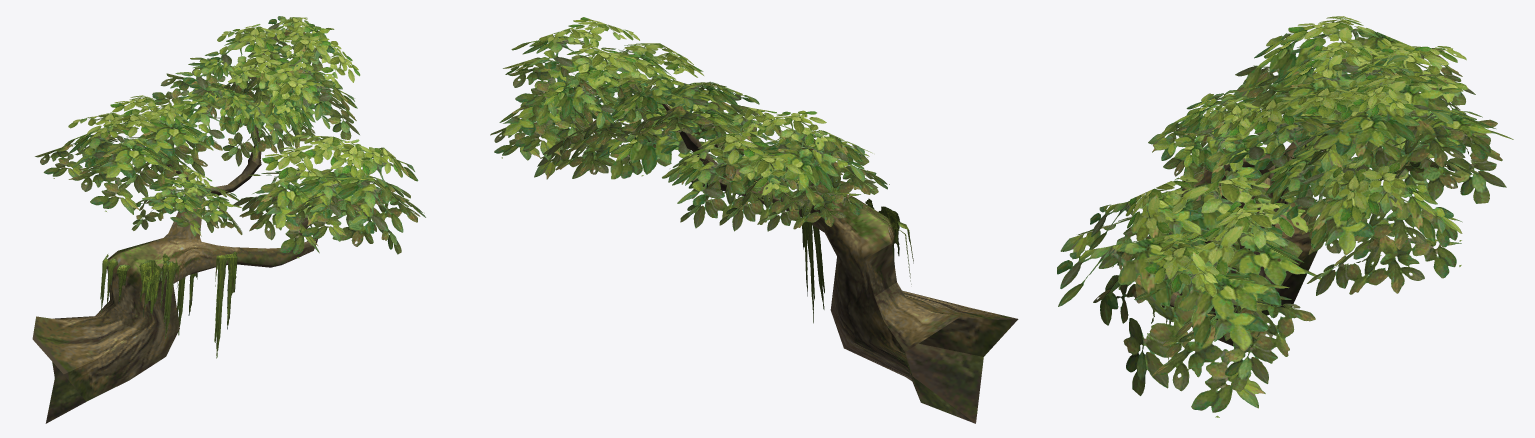
The model's file is 3004_Item_shu_3.FBX.
3 views of the same model, side by side, from view 1: azimuth 30°, elevation 25°; view 2: azimuth 150°, elevation 25°; view 3: azimuth 270°, elevation 25° (orthographic). The views are drawn at different scales.
Parts seen in each view (by area): view 1: 3004_Item_shu_3; view 2: 3004_Item_shu_3; view 3: 3004_Item_shu_3.
Part boxes in pixels (left/top/right/bottom): 3004_Item_shu_3: left=32, top=16, right=425, bottom=423; 3004_Item_shu_3: left=490, top=17, right=1018, bottom=423; 3004_Item_shu_3: left=1057, top=16, right=1513, bottom=417.
Size of the model in its own units: 482 by 349 by 322.
